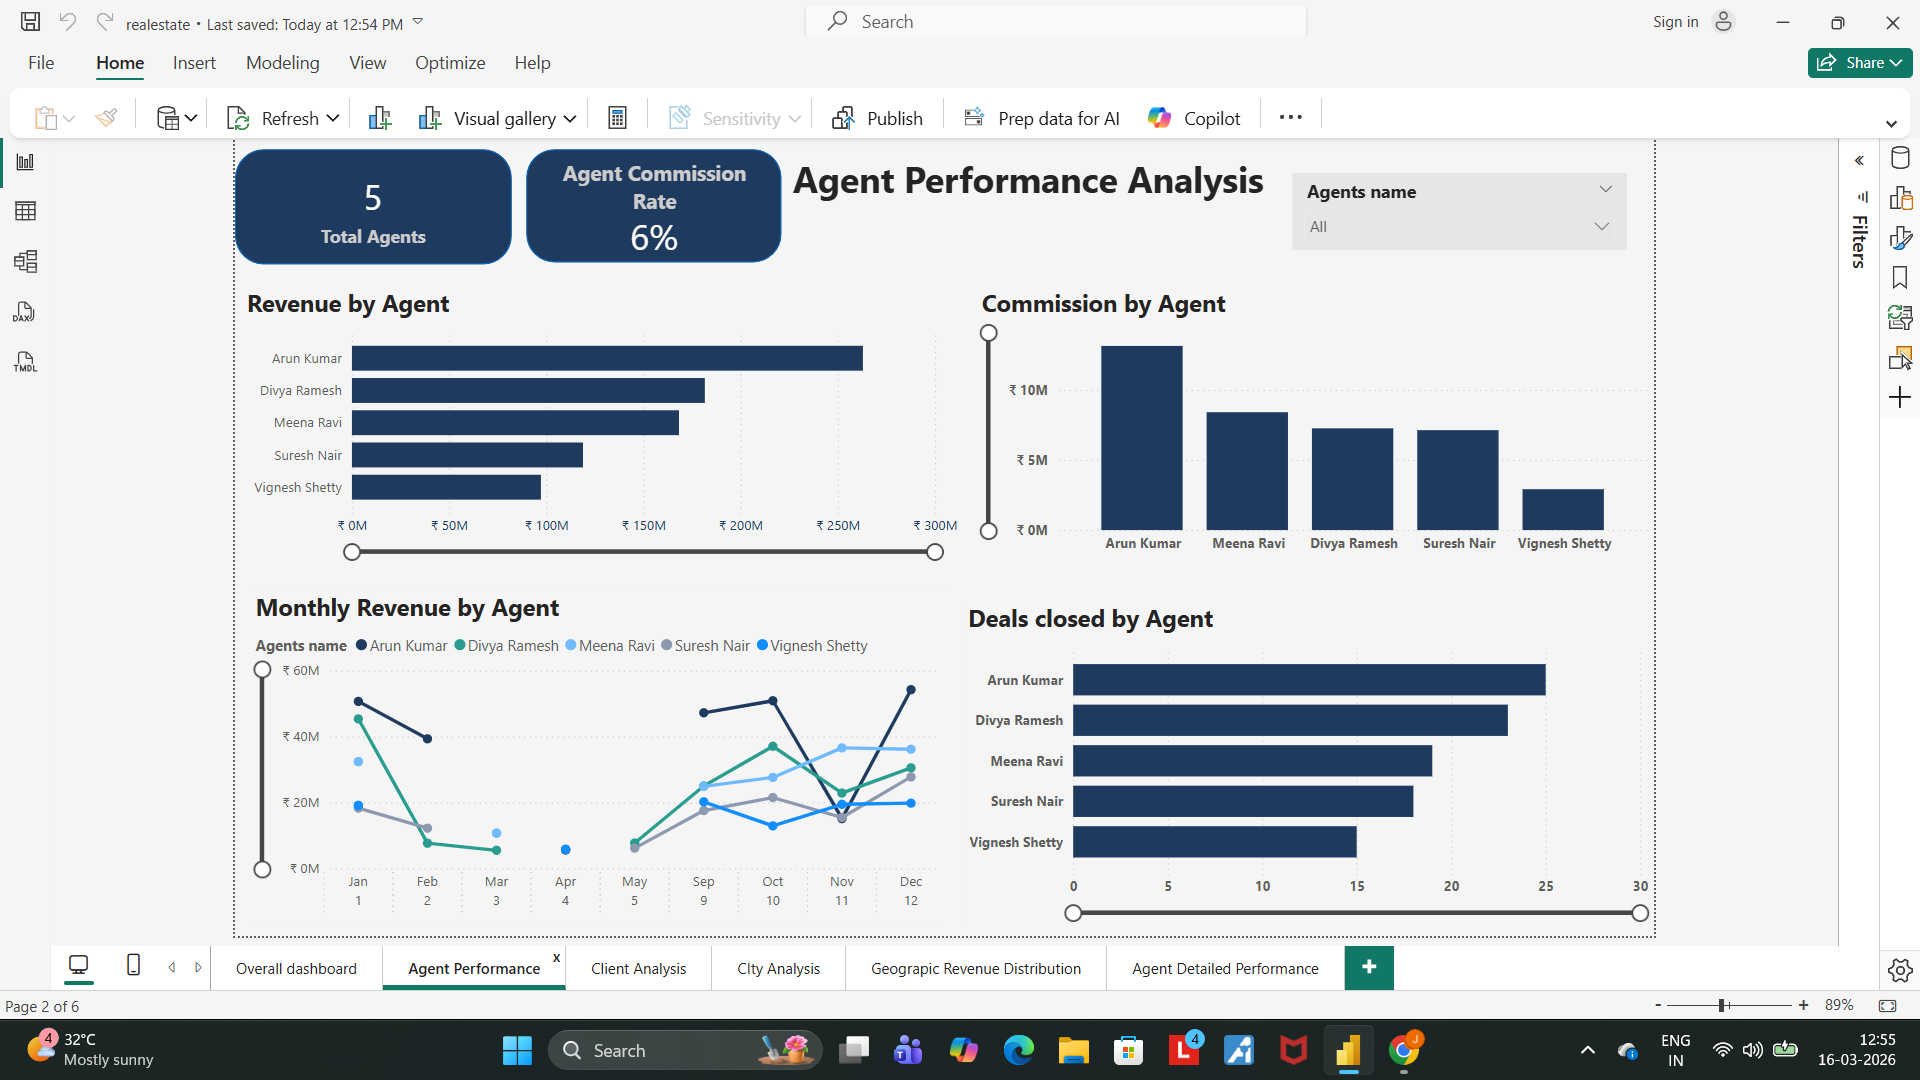

The dashboard page shown, as its layout file describes it:
{"tool":"powerbi","page":{"name":"Agent Performance","canvas":[1280,720],"ordinal":1},"visuals":[{"type":"clusteredBarChart","title":"Revenue by Agent","fields":{"Category":["realestate agents.Agents name"],"Y":["measure.Total_Revenue"]},"box":[5.8,134.2,650.7,249.6],"z":0},{"type":"clusteredColumnChart","title":"Commission by Agent","fields":{"Category":["realestate agents.Agents name"],"Y":["measure.Total_commission"]},"box":[668,134.2,611.7,249.6],"z":1000},{"type":"lineChart","title":"Monthly Revenue by Agent","fields":{"Category":["Calendar.Month Number","Calendar.Month Name"],"Series":["realestate agents.Agents name"],"Y":["measure.Total_Revenue"]},"box":[13,408.3,626.2,301.5],"z":2000},{"type":"barChart","title":"Deals closed by Agent","fields":{"Category":["realestate agents.Agents name"],"Y":["measure.Total_transactions"]},"box":[656.5,418.4,623.3,291.4],"z":3000},{"type":"slicer","fields":{"Values":["realestate agents.Agents name"]},"box":[953.7,31.7,301.5,69.3],"z":4000},{"type":"textbox","box":[424.2,10.1,582.9,56.3],"z":5000},{"type":"shape","box":[0,10.1,249.6,103.9],"z":6000},{"type":"shape","box":[262.5,10,230.1,102],"z":6500},{"type":"card","fields":{"Values":["measure.Toatl_Agents"]},"box":[0,13,249.6,101],"z":7000},{"type":"card","title":"Agent Commission Rate","fields":{"Values":["Max(realestate agents.CommissionRate)"]},"box":[286.1,18.7,184.1,89.6],"z":9000}]}

Visuals, with their boxes on the page's 1280x720 design canvas (x1, y1, x2, y2). These are canvas units, not pixel positions in the 1920x1080 screenshot, which may show the page scaled, cropped or inside an application window:
"Revenue by Agent" clusteredBarChart: 6,134,656,384
"Commission by Agent" clusteredColumnChart: 668,134,1280,384
"Monthly Revenue by Agent" lineChart: 13,408,639,710
"Deals closed by Agent" barChart: 656,418,1280,710
slicer - realestate agents.Agents name: 954,32,1255,101
textbox: 424,10,1007,66
shape: 0,10,250,114
shape: 262,10,493,112
card - measure.Toatl_Agents: 0,13,250,114
"Agent Commission Rate" card: 286,19,470,108
